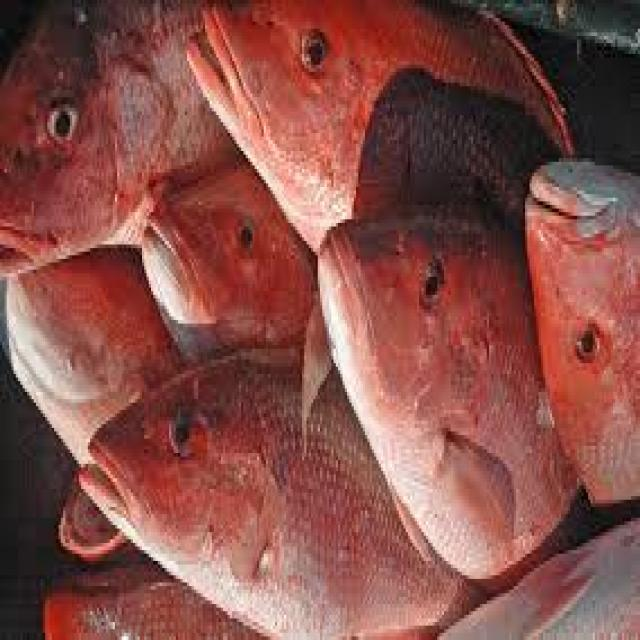northern-red-snapper: (83, 345, 477, 640), (181, 0, 607, 256), (311, 200, 590, 570), (0, 3, 234, 270), (516, 120, 640, 530), (139, 160, 320, 380), (4, 249, 176, 438)
